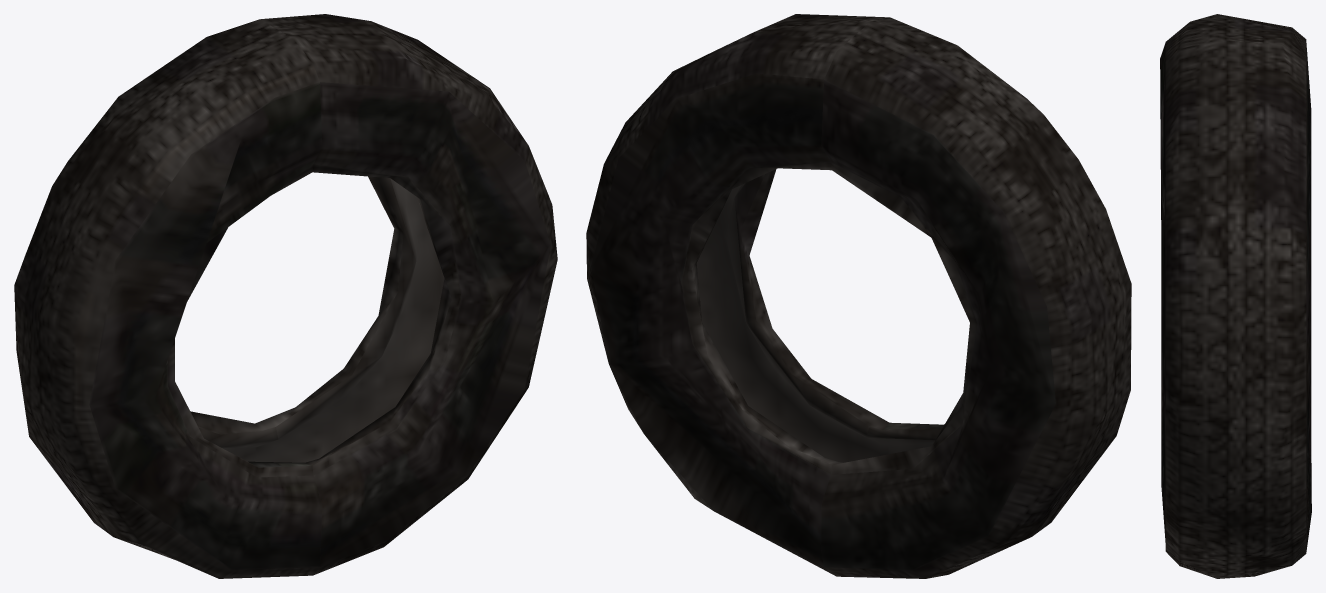
Rendered from tyre.glb.
3 views of the same model, side by side, from view 1: azimuth 30°, elevation 25°; view 2: azimuth 150°, elevation 25°; view 3: azimuth 270°, elevation 25° (orthographic). The views are drawn at different scales.
Visible parts, largest first — view 1: tyre; view 2: tyre; view 3: tyre.
Boxes of the visible parts, bbox=[...] form: tyre: bbox=[14, 14, 557, 578]; tyre: bbox=[586, 14, 1131, 578]; tyre: bbox=[1160, 14, 1311, 578].
Size of the model in its own units: 0.5873 by 0.6 by 0.161.
Materials: 1 (1 with a texture image).
